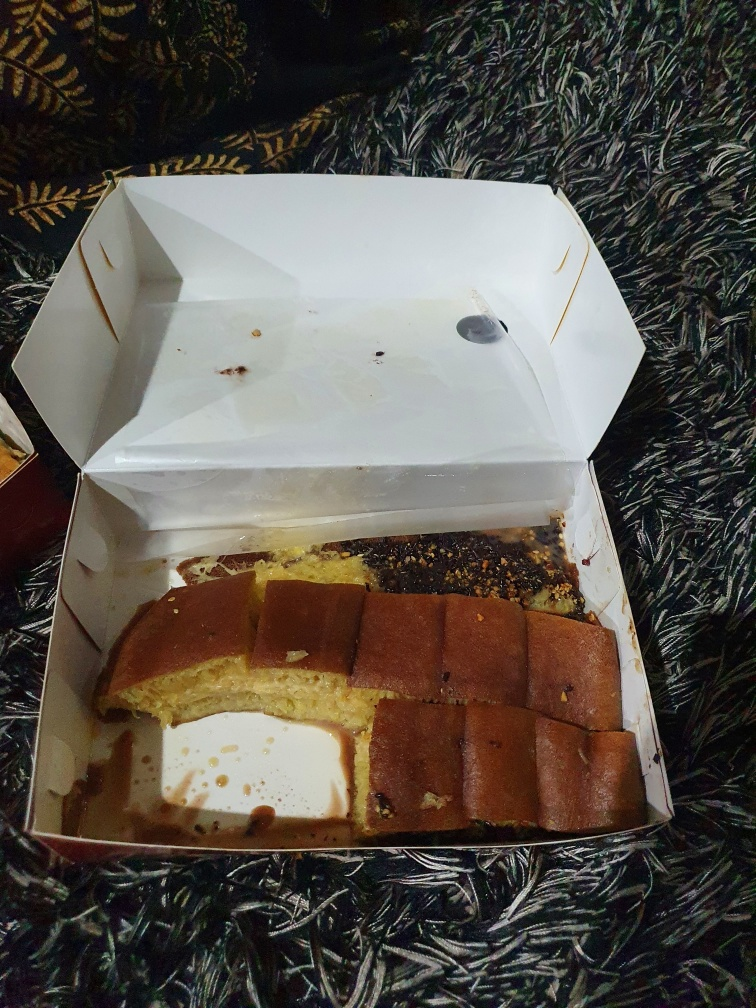martabak manis: (95, 576, 254, 719), (255, 577, 357, 721), (353, 698, 457, 833), (521, 606, 624, 721), (334, 578, 441, 688), (454, 699, 543, 826), (535, 721, 640, 827), (452, 576, 535, 697)
